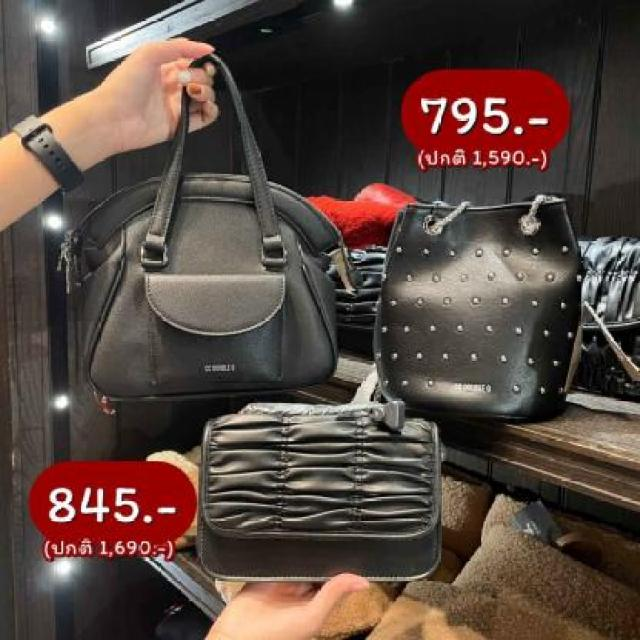Bag: (42, 14, 370, 423), (161, 383, 484, 597), (371, 160, 620, 432)
